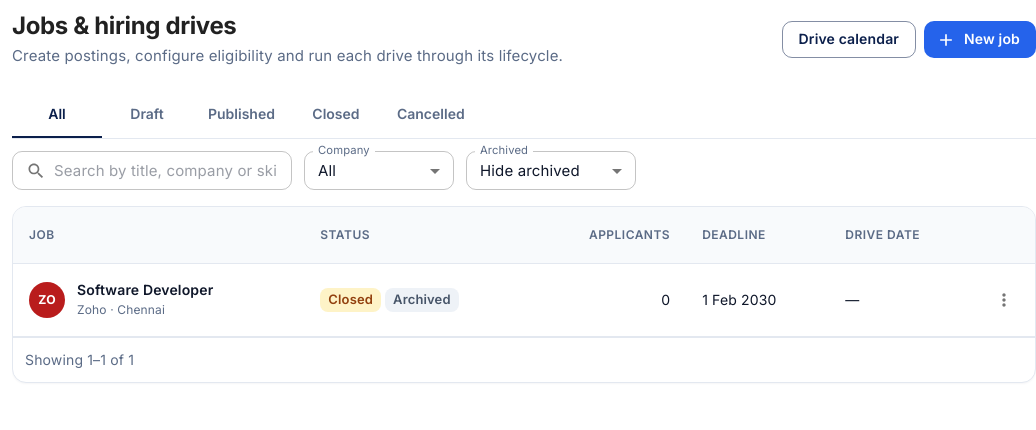
it: lifecycle actions from the row menu › archived jobs cannot be edited, only restored
expect the link "Software Developer" is shown: met, box [77,281,213,298]
What coordinates should you click on to do the following:
click the button named "Actions for Software Developer"
I would click on:
 (1004, 300)
Its box is [989,285,1019,315].
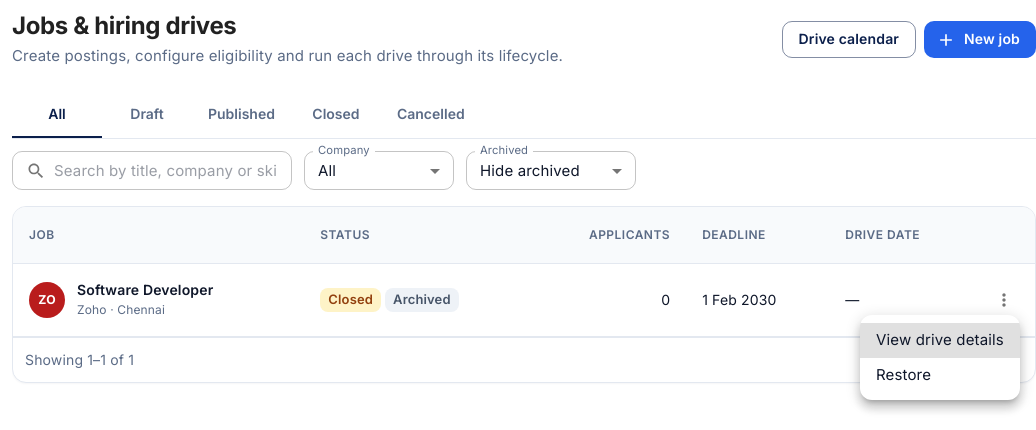
expect the menu item "Restore" is shown: met, box [876,364,931,384]
